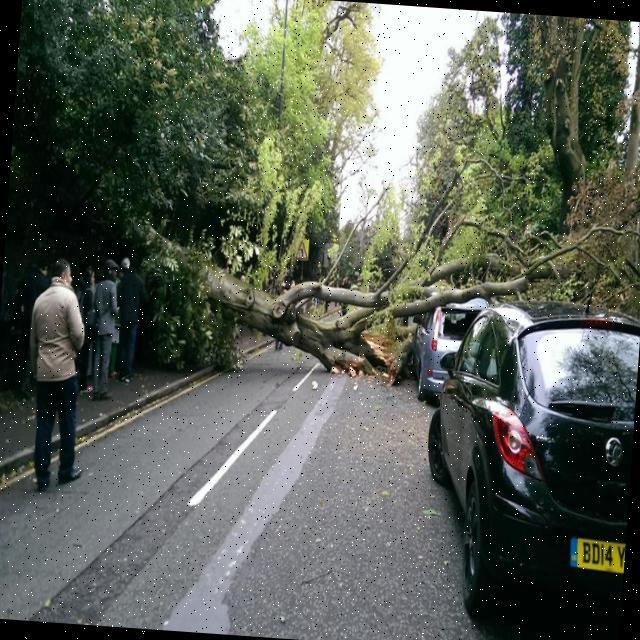fallen_object: (114, 180, 640, 394)
